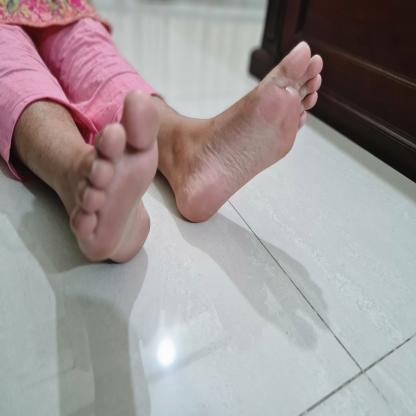leg: (162, 36, 328, 228), (10, 78, 165, 273)
